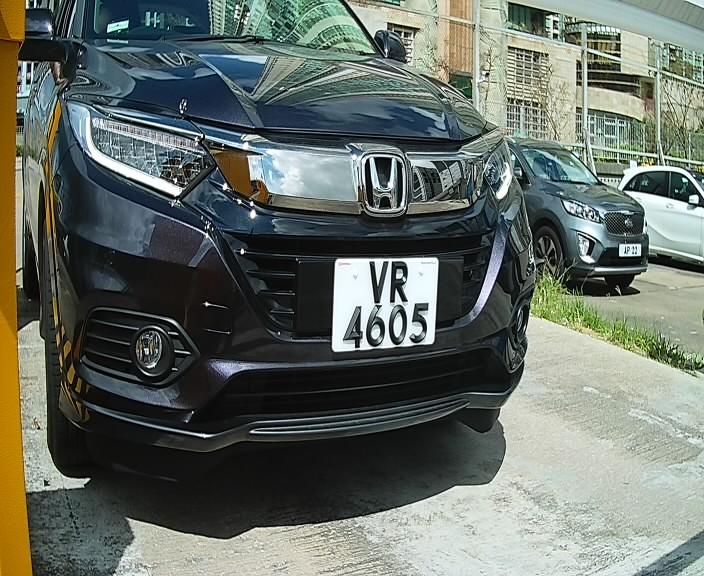License Plate: (325, 253, 442, 362)
